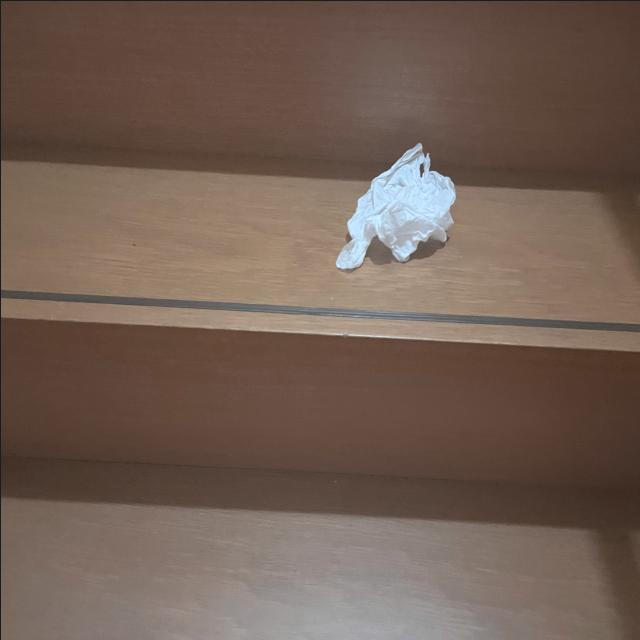Paper: (333, 140, 464, 275)
